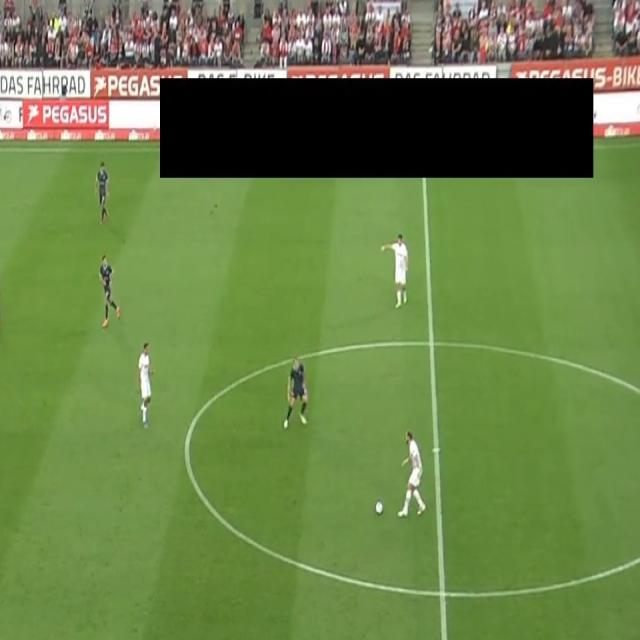ball: (374, 498, 384, 516)
